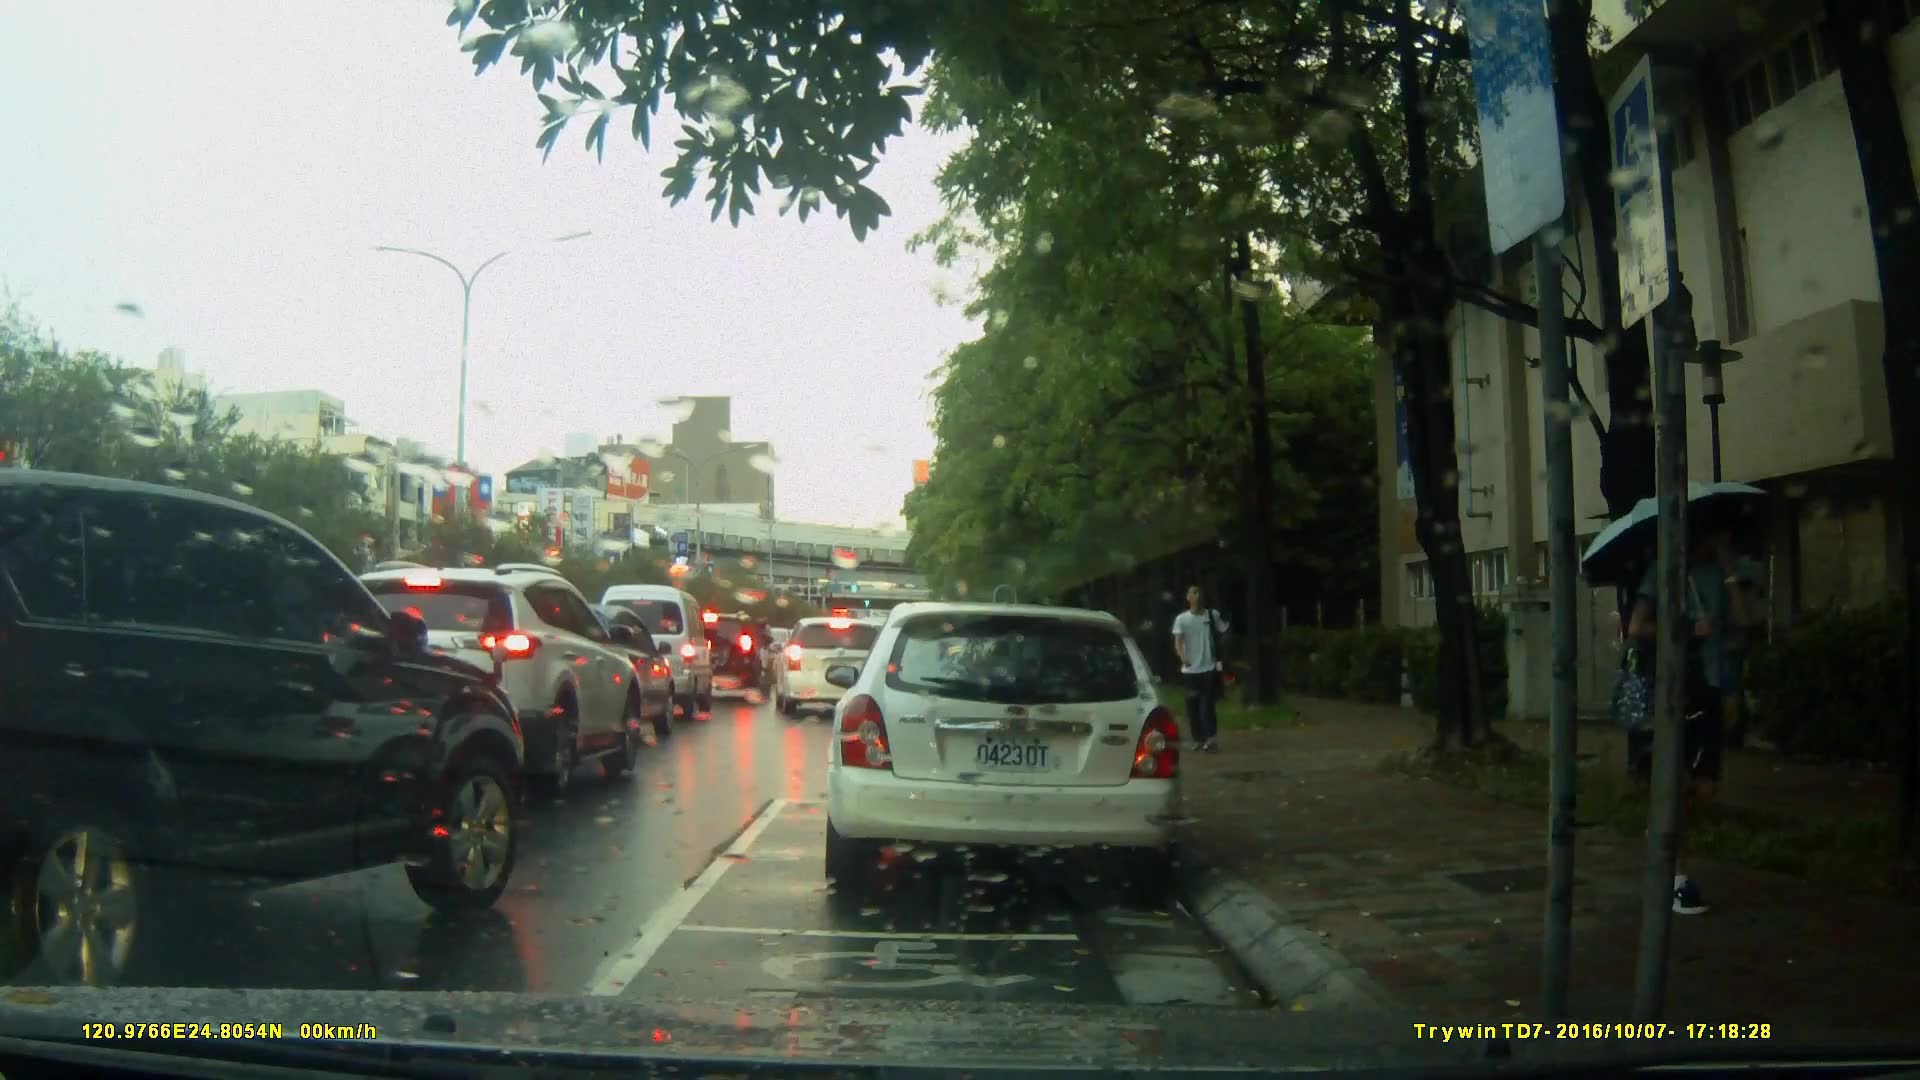pedestrian: (1640, 483, 1786, 949), (1157, 574, 1238, 767)
vehicle: (1, 466, 530, 987), (820, 602, 1188, 898), (318, 562, 652, 793), (509, 604, 681, 743), (590, 583, 717, 724), (773, 617, 899, 718), (676, 611, 772, 702)
